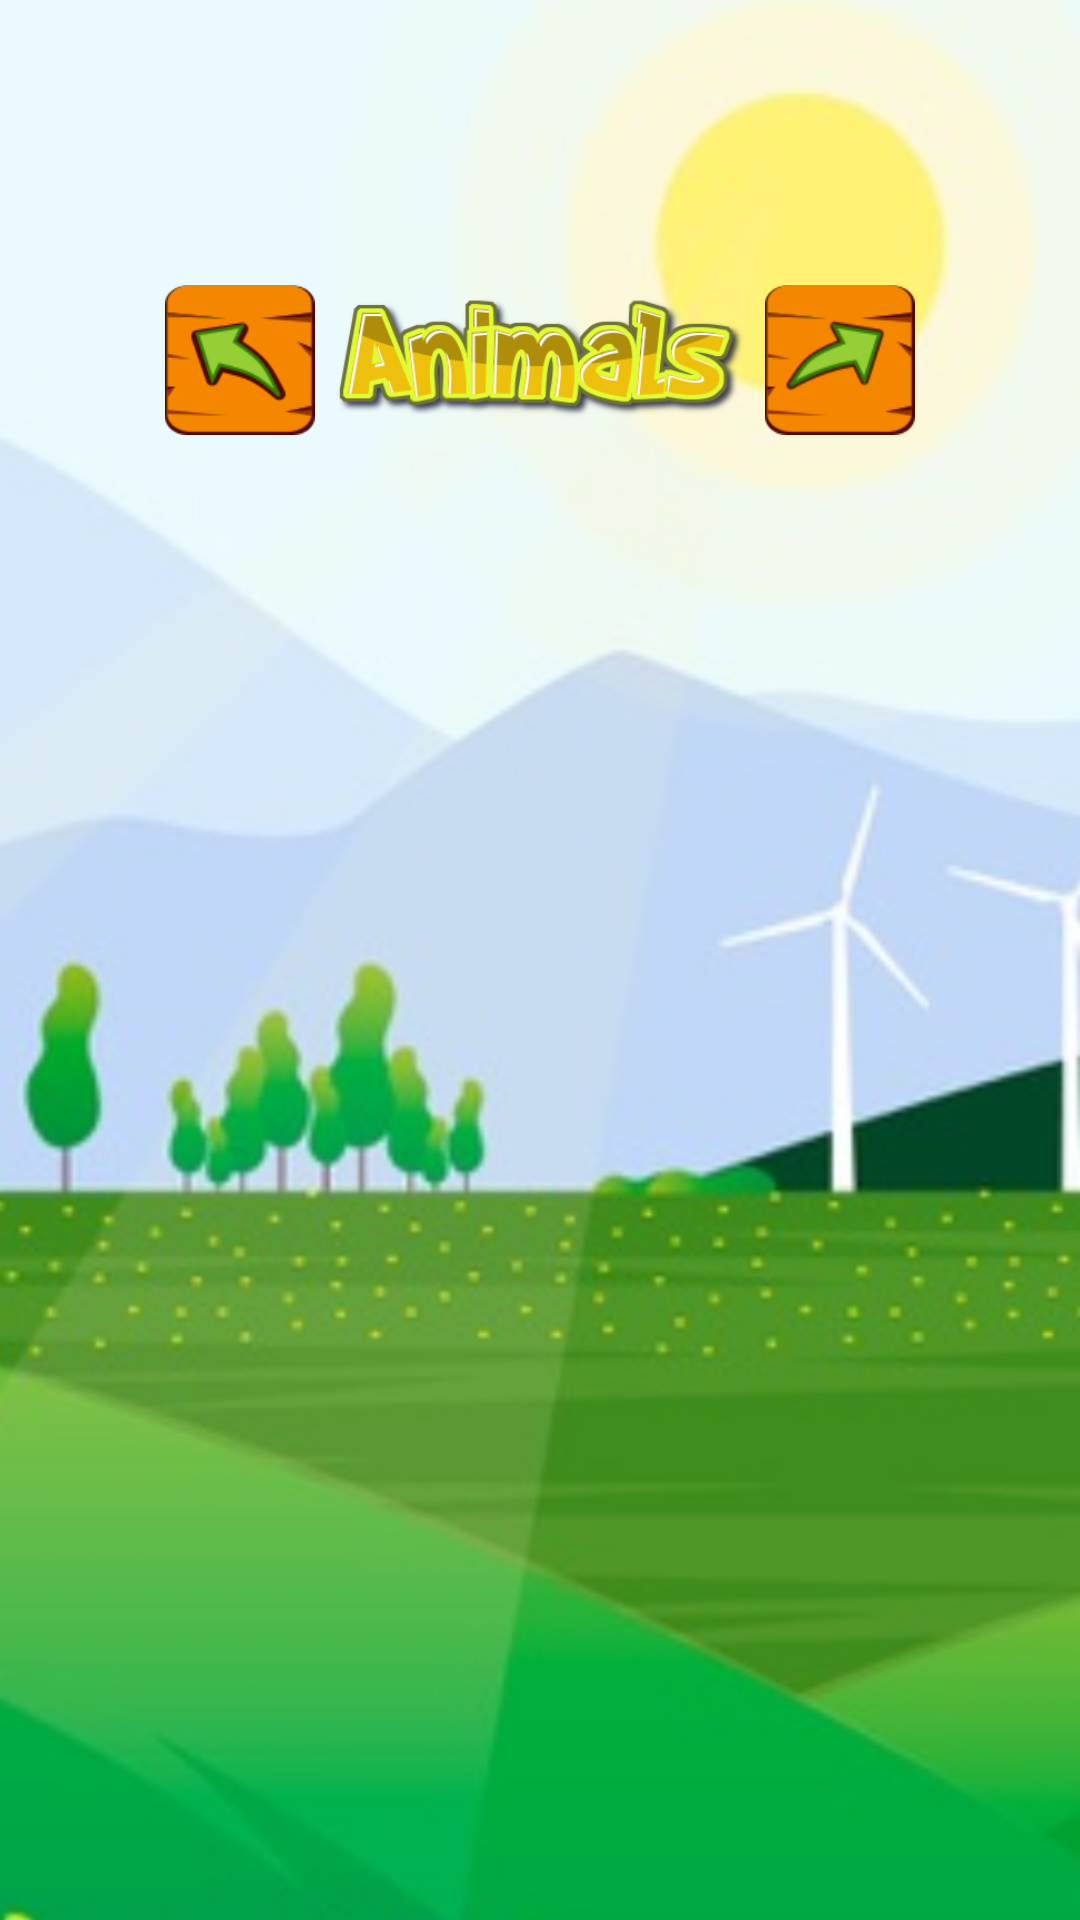

Named icons in this screenshot (1080*1920) and their centers, point (x, y):
buttonback: point (240, 360)
buttonnext: point (840, 360)
